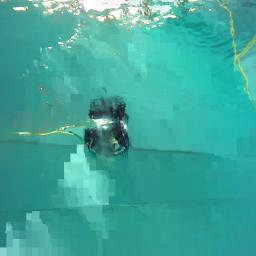Side: (84, 120, 130, 157)
